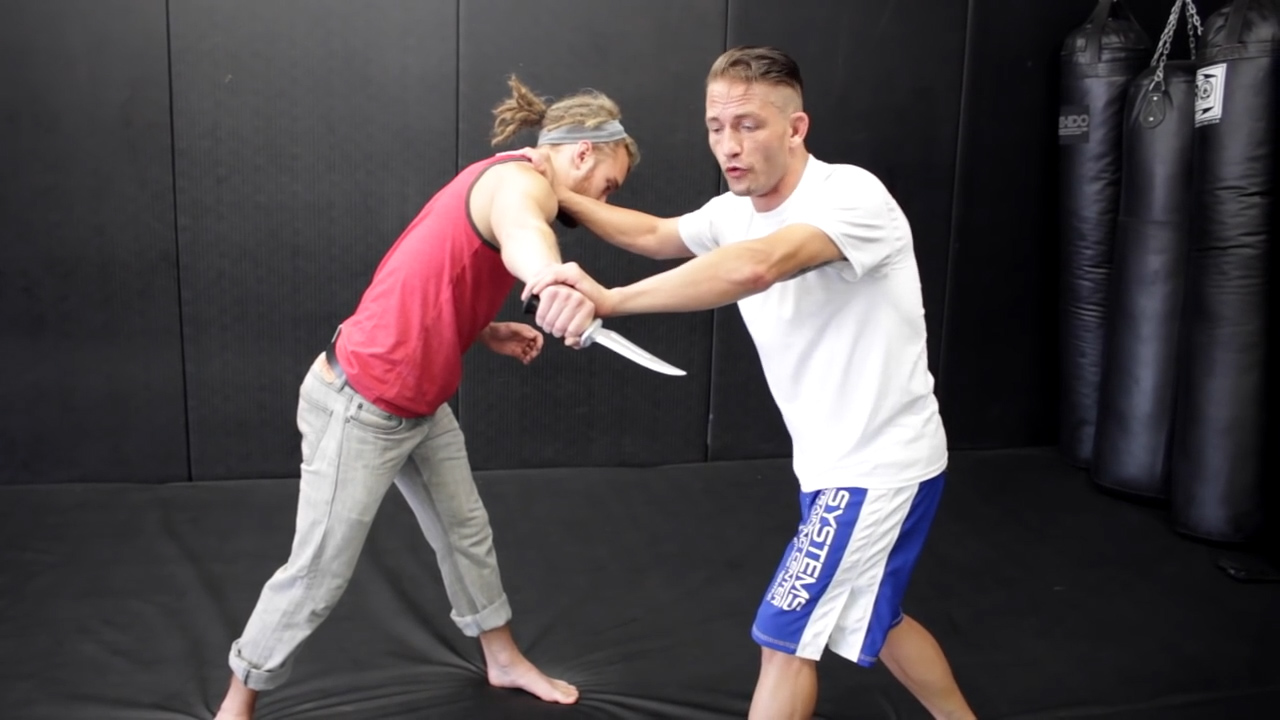knife: (518, 284, 699, 392)
